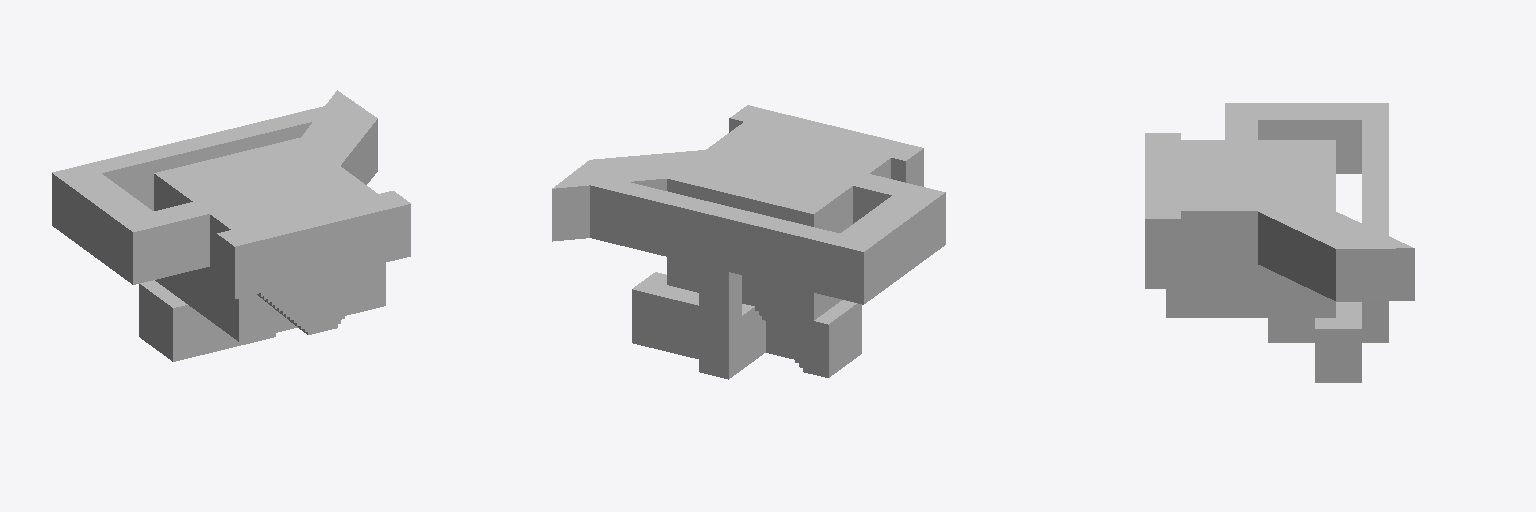
The model's file is SalleMonteDescent.obj.
The picture shows the model from 3 angles: view 1: azimuth 30°, elevation 25°; view 2: azimuth 150°, elevation 25°; view 3: azimuth 270°, elevation 25°; orthographic projection.
Visible parts, largest first — view 1: Plane; view 2: Plane; view 3: Plane.
Boxes of the visible parts, x1=… form: Plane: x1=52, y1=90, x2=410, y2=361; Plane: x1=552, y1=105, x2=945, y2=379; Plane: x1=1145, y1=103, x2=1414, y2=382.
Size of the model in its own units: 16.34 by 8.34 by 12.71.